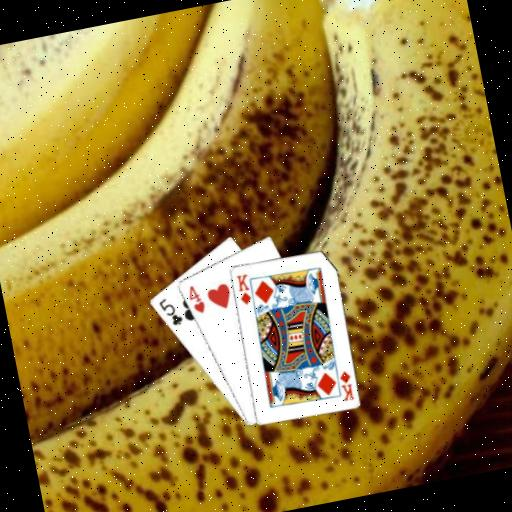4H: (183, 281, 208, 317)
5C: (154, 293, 185, 330)
KD: (335, 367, 357, 403), (233, 270, 254, 307)
